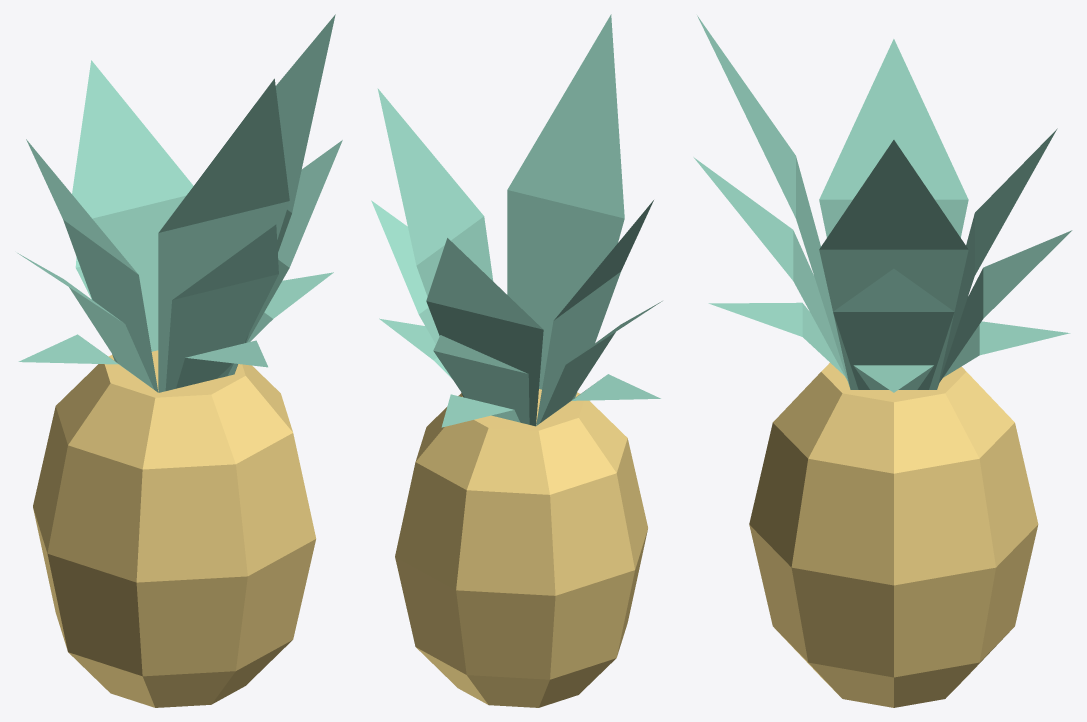
Rendered from pineapple.glb.
The picture shows the model from 3 angles, left to right: view 1: azimuth 30°, elevation 25°; view 2: azimuth 150°, elevation 25°; view 3: azimuth 270°, elevation 25°; orthographic projection. The views are drawn at different scales.
Parts seen in each view (by area): view 1: pineapple; view 2: pineapple; view 3: pineapple.
Boxes of the visible parts, box(x1,y1,x2,y2) form: pineapple: box(17, 14, 342, 707); pineapple: box(371, 14, 662, 707); pineapple: box(693, 15, 1072, 707).
Size of the model in its own units: 0.2412 by 0.4716 by 0.2448.
